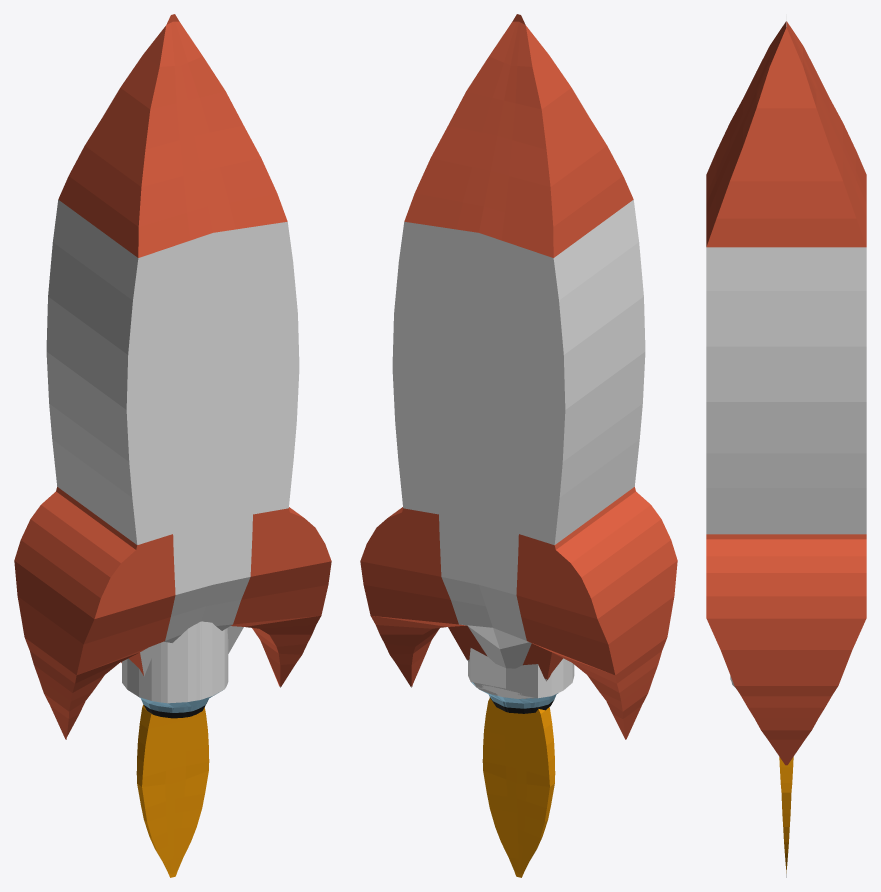
Rendered from roket.obj.
3 views of the same model, side by side, from view 1: azimuth 30°, elevation 25°; view 2: azimuth 150°, elevation 25°; view 3: azimuth 270°, elevation 25° (orthographic).
Visible parts, largest first — view 1: roket_Cube; view 2: roket_Cube; view 3: roket_Cube.
Part boxes in pixels (x1,y1,x2,y2): roket_Cube: (14, 14, 331, 877); roket_Cube: (360, 14, 677, 877); roket_Cube: (706, 14, 866, 877).
Size of the model in its own units: 0.7157 by 2.41 by 0.4057.
